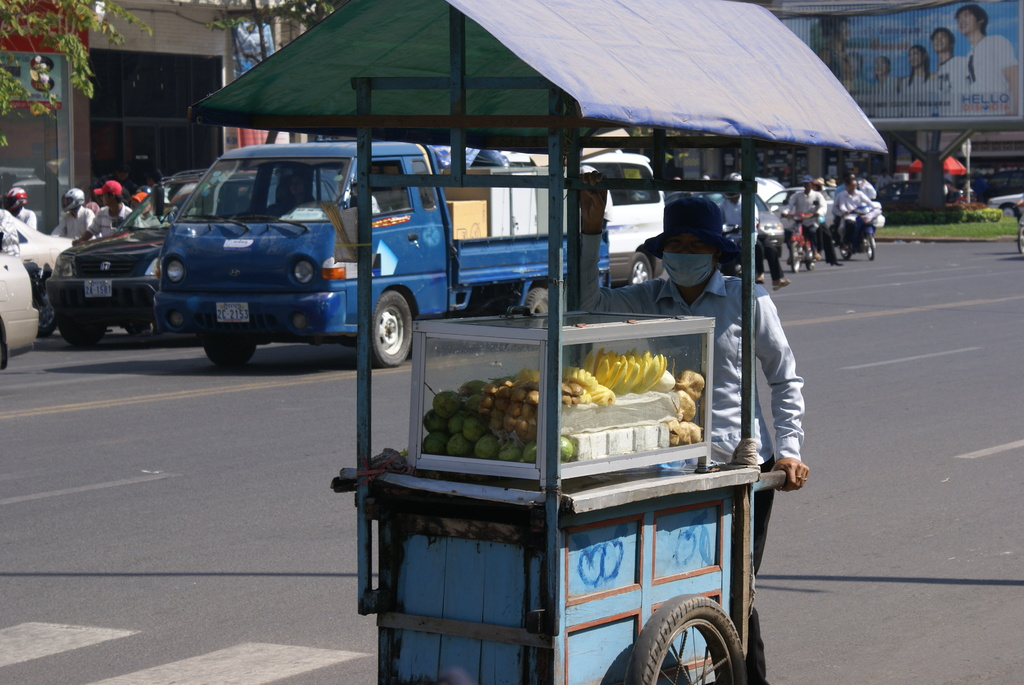Car: (42, 168, 196, 328), (0, 202, 67, 364)
